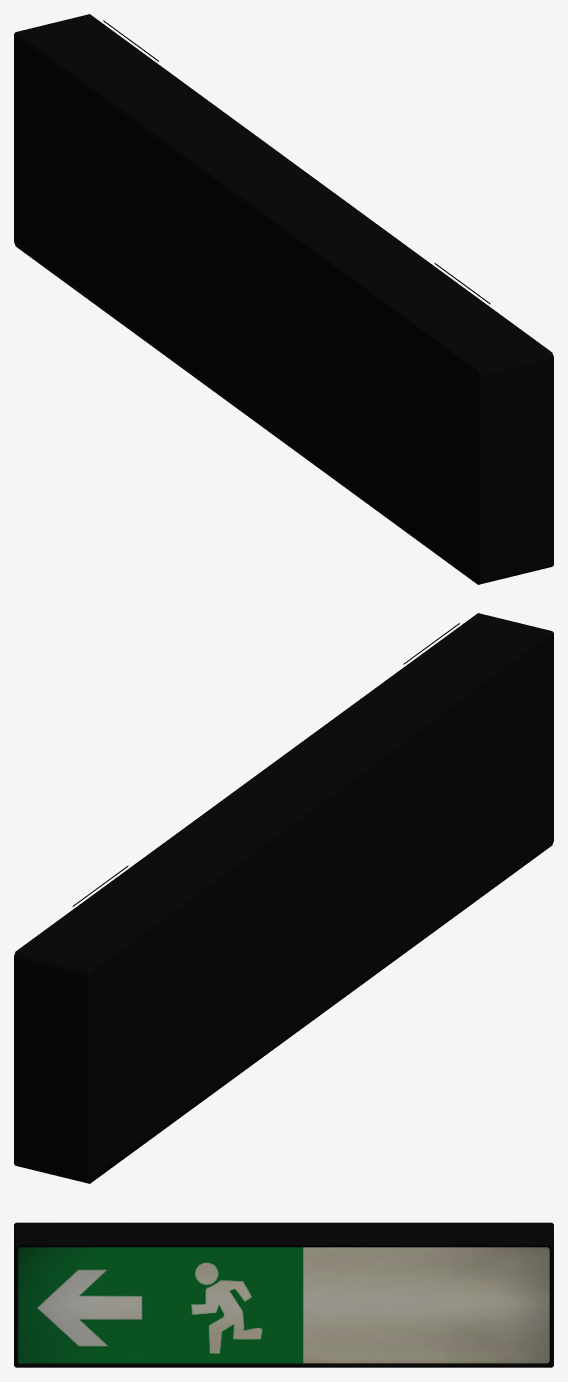
The model's file is ExitWay_Lamp.FBX.
3 renders of one model, top to bottom at view 1: azimuth 30°, elevation 25°; view 2: azimuth 150°, elevation 25°; view 3: azimuth 270°, elevation 25°, orthographic. The views are drawn at different scales.
Visible parts, largest first — view 1: ExitWay_Lamp; view 2: ExitWay_Lamp; view 3: ExitWay_Lamp.
Boxes of the visible parts, x1,y1,x2,y2 form: ExitWay_Lamp: (14, 14, 553, 584); ExitWay_Lamp: (14, 613, 553, 1183); ExitWay_Lamp: (14, 1222, 553, 1367).
Size of the model in its own units: 8.23 by 25.41 by 89.64.
